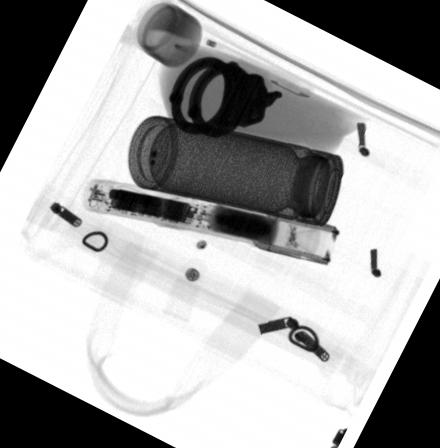Baton: (80, 177, 340, 267)
HandCuffs: (166, 56, 284, 140)
